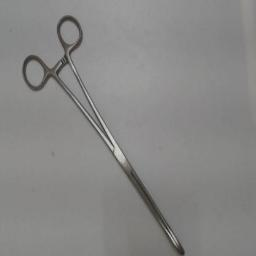Sponge Forceps: (18, 8, 190, 256)
